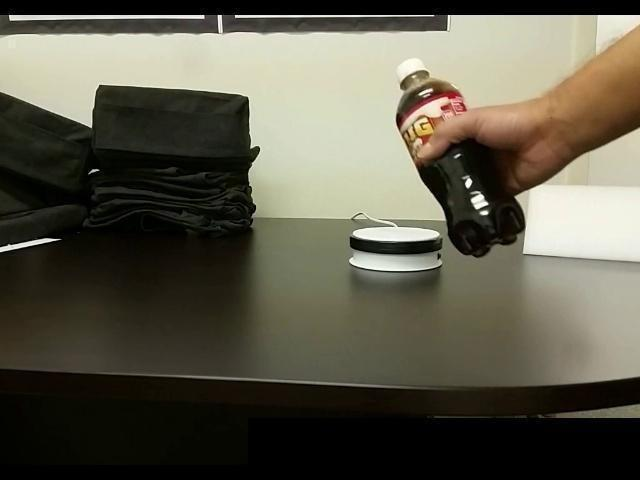bottle-plastic: (393, 53, 532, 266)
